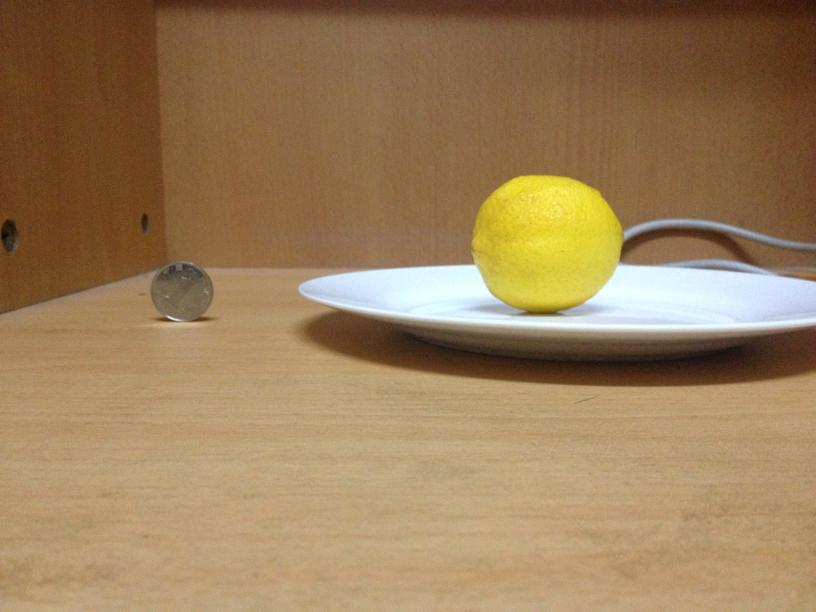coin: (148, 261, 213, 320)
lemon: (472, 176, 624, 313)
